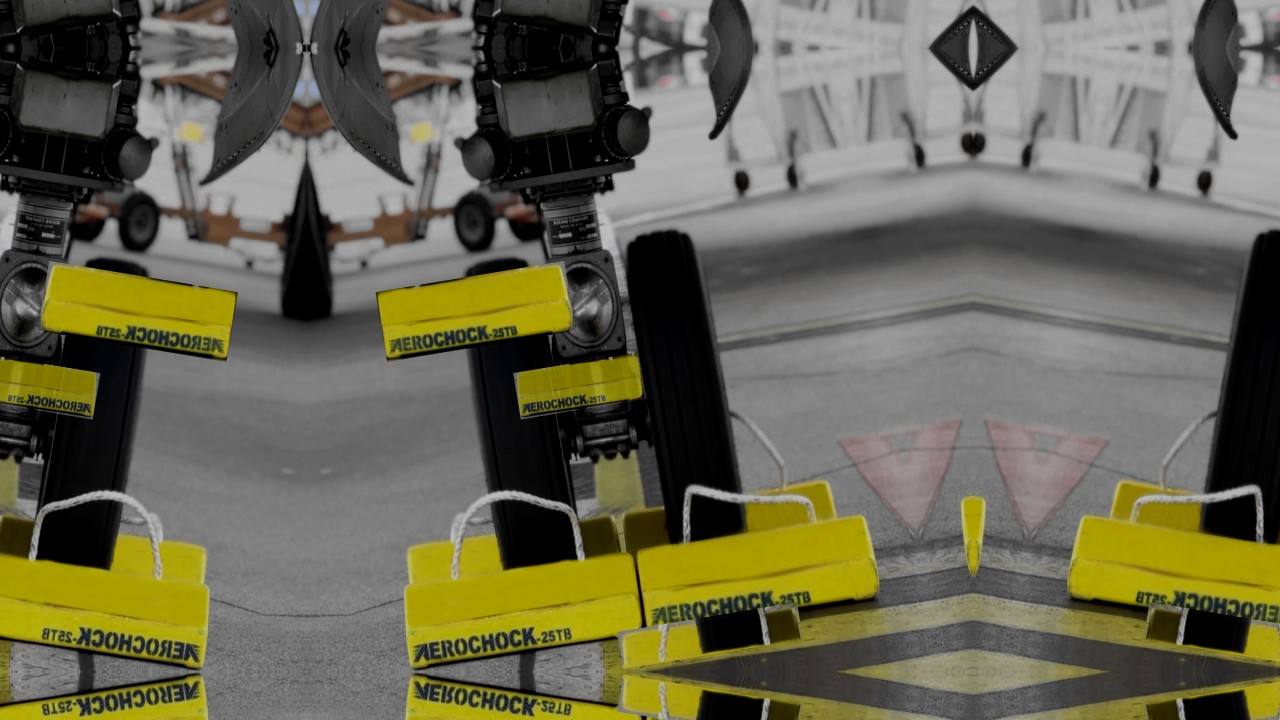chock: (634, 510, 884, 636), (397, 547, 647, 672), (1063, 510, 1280, 636), (0, 547, 216, 672), (37, 261, 237, 362), (376, 261, 576, 362), (401, 508, 625, 590), (620, 476, 841, 555), (0, 508, 212, 590), (1106, 476, 1280, 555), (617, 602, 803, 669), (397, 672, 647, 720), (0, 672, 216, 720), (1144, 602, 1280, 669), (513, 352, 645, 420), (617, 675, 803, 720), (0, 352, 100, 420), (1144, 675, 1280, 720)
wheel: (29, 250, 161, 569), (452, 250, 584, 569), (617, 224, 747, 547), (1200, 224, 1280, 547), (306, 174, 338, 316), (275, 174, 306, 316), (117, 190, 163, 252), (450, 190, 496, 252), (72, 210, 105, 243), (508, 210, 541, 243)
